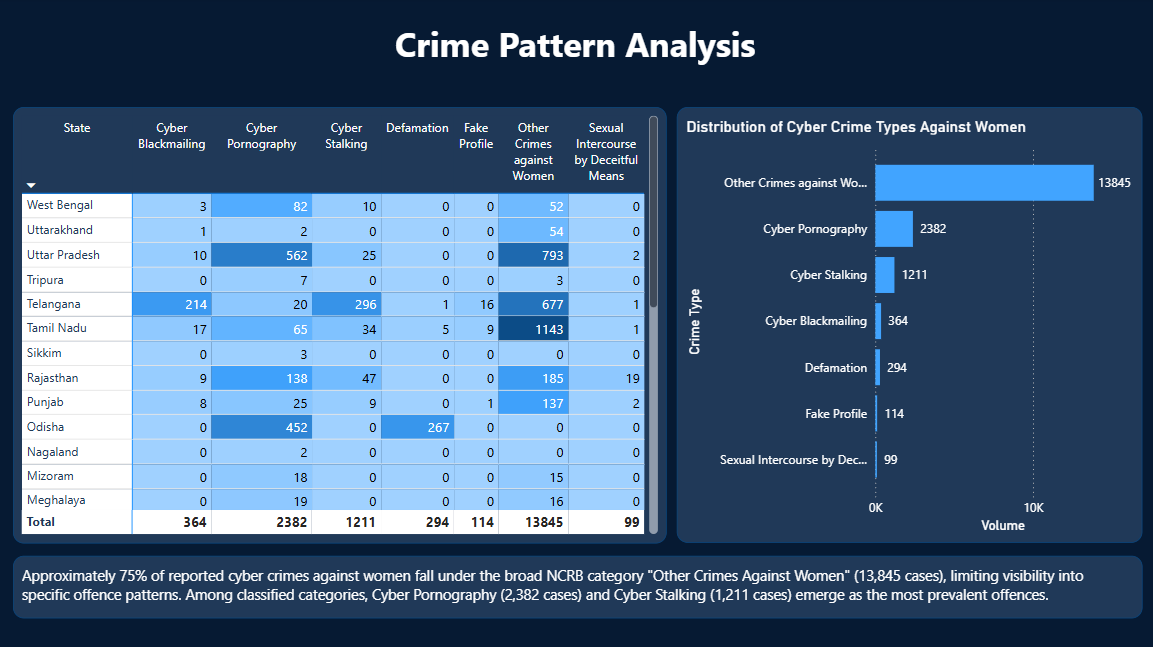

The page's visual inventory and layout, read from the dashboard file:
{"tool":"powerbi","page":{"name":"Page 3","canvas":[1280,720],"ordinal":2},"visuals":[{"type":"textbox","box":[436.7,20.5,406.6,65.1],"z":0},{"type":"pivotTable","fields":{"Rows":["Raw Data.State"],"Columns":["Raw Data.Attribute"],"Values":["Sum(Raw Data.Total Crimes)"]},"box":[21.7,120.6,717.8,479],"z":1000},{"type":"barChart","title":"Distribution of Cyber Crime Types Against Women","fields":{"Category":["Raw Data.Attribute"],"Y":["Sum(Raw Data.Total Crimes)"]},"box":[763.7,120.6,498.3,479],"z":2000},{"type":"textbox","box":[21.7,612.9,1240.2,68.8],"z":3000}]}

Visuals, with their boxes in screenshot pixels (x1, y1, x2, y2), scaled from the page's 1280x720 canvas onto the 1153x647 screenshot:
textbox: Rect(393, 18, 760, 77)
pivotTable - Raw Data.State x Raw Data.Attribute: Rect(20, 108, 666, 539)
"Distribution of Cyber Crime Types Against Women" barChart: Rect(688, 108, 1137, 539)
textbox: Rect(20, 551, 1137, 613)
